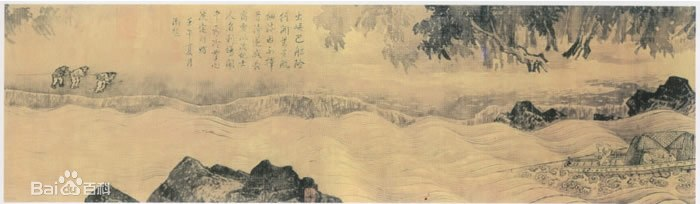boat: (559, 132, 700, 179)
man: (67, 61, 91, 93), (92, 69, 120, 96), (595, 139, 613, 170), (50, 63, 68, 90), (644, 149, 658, 167), (663, 151, 677, 163)
river: (18, 103, 700, 202)
tree: (416, 4, 686, 67)
